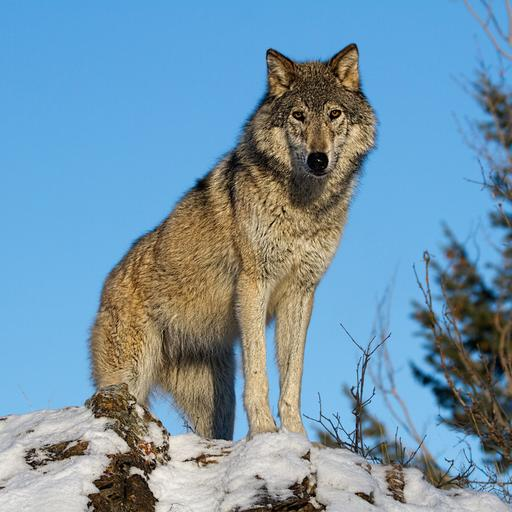Wolf: (85, 37, 389, 479)
